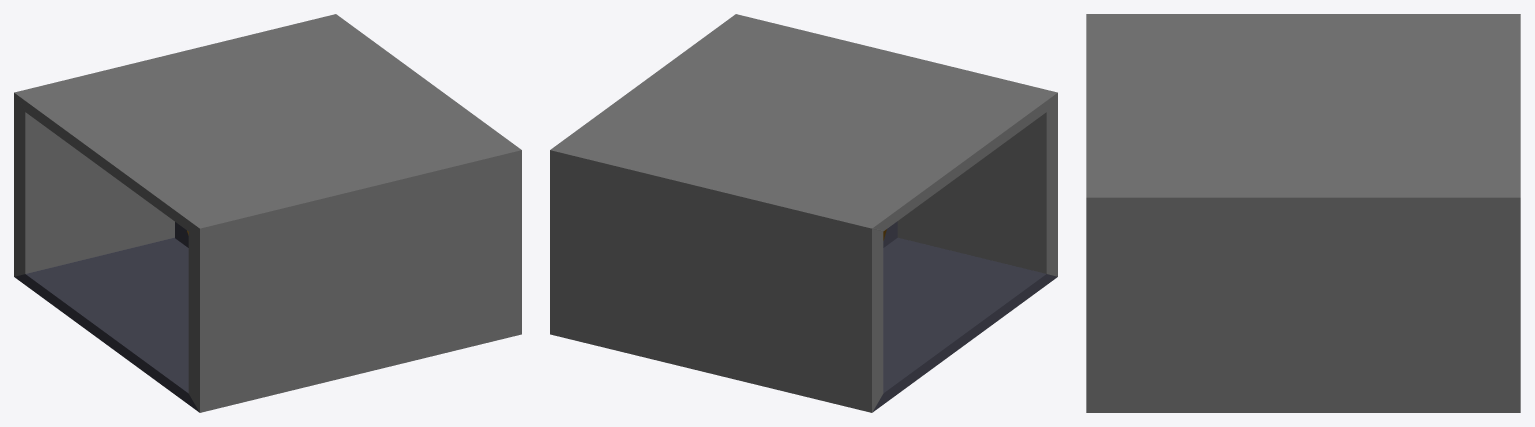
The model's file is 미프 맵최종.fbx.
3 renders of one model, left to right at view 1: azimuth 30°, elevation 25°; view 2: azimuth 150°, elevation 25°; view 3: azimuth 270°, elevation 25°, orthographic. The views are drawn at different scales.
Parts seen in each view (by area): view 1: Cube.001; view 2: Cube.001; view 3: Cube.001.
Boxes of the visible parts, x1,y1,x2,y2 form: Cube.001: [14, 14, 521, 412]; Cube.001: [550, 14, 1057, 412]; Cube.001: [1086, 14, 1520, 412].
Bounding box in the file's own units: 2000 × 1094 × 2000.
3 materials, 3 textured.
